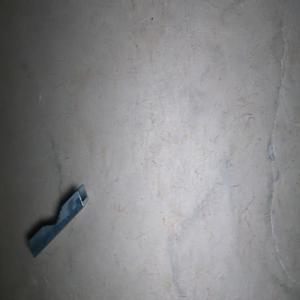ClampPart: (26, 182, 89, 259)
